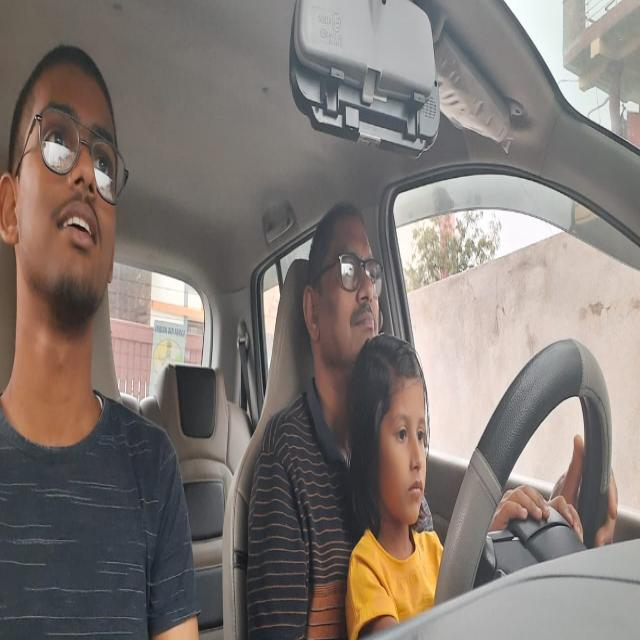child: (354, 336, 434, 530)
person: (0, 46, 127, 358), (302, 192, 380, 378)
